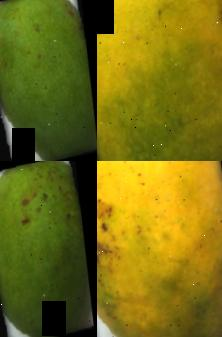PartiallyRipe: (97, 0, 222, 161)
Ripe: (97, 161, 222, 337)
Unripe: (0, 161, 97, 337), (0, 0, 97, 161)
